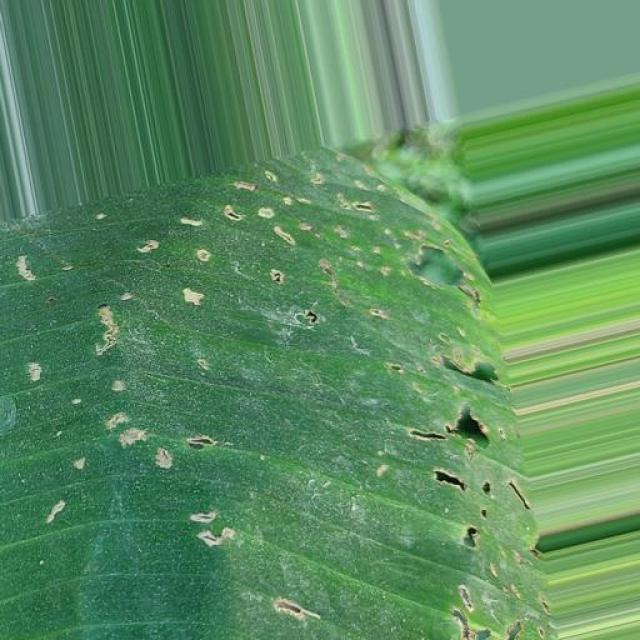Black_rot: (14, 147, 608, 640)
